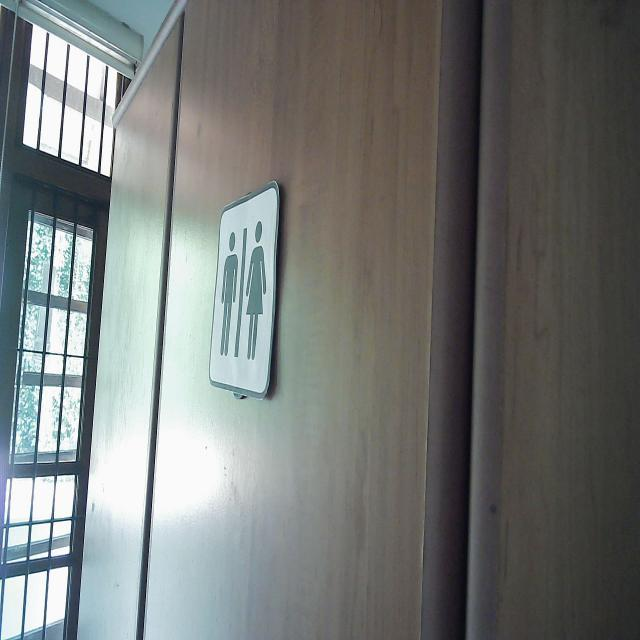restroom: (206, 178, 282, 402)
